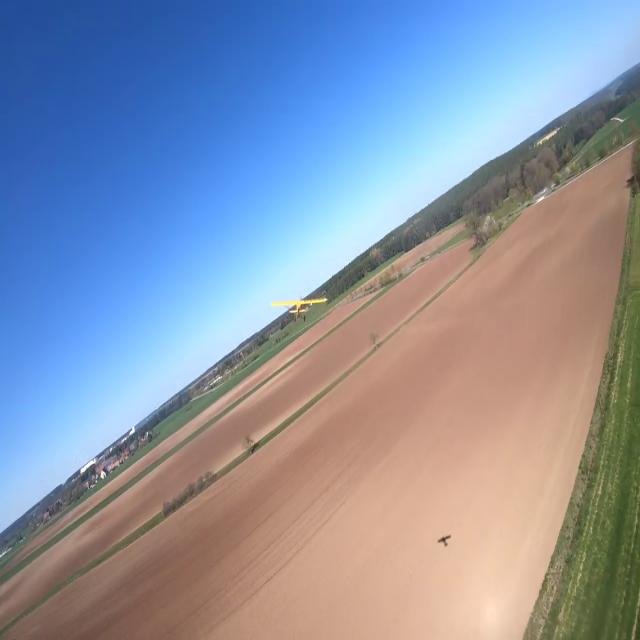iha: (269, 298, 329, 320)
